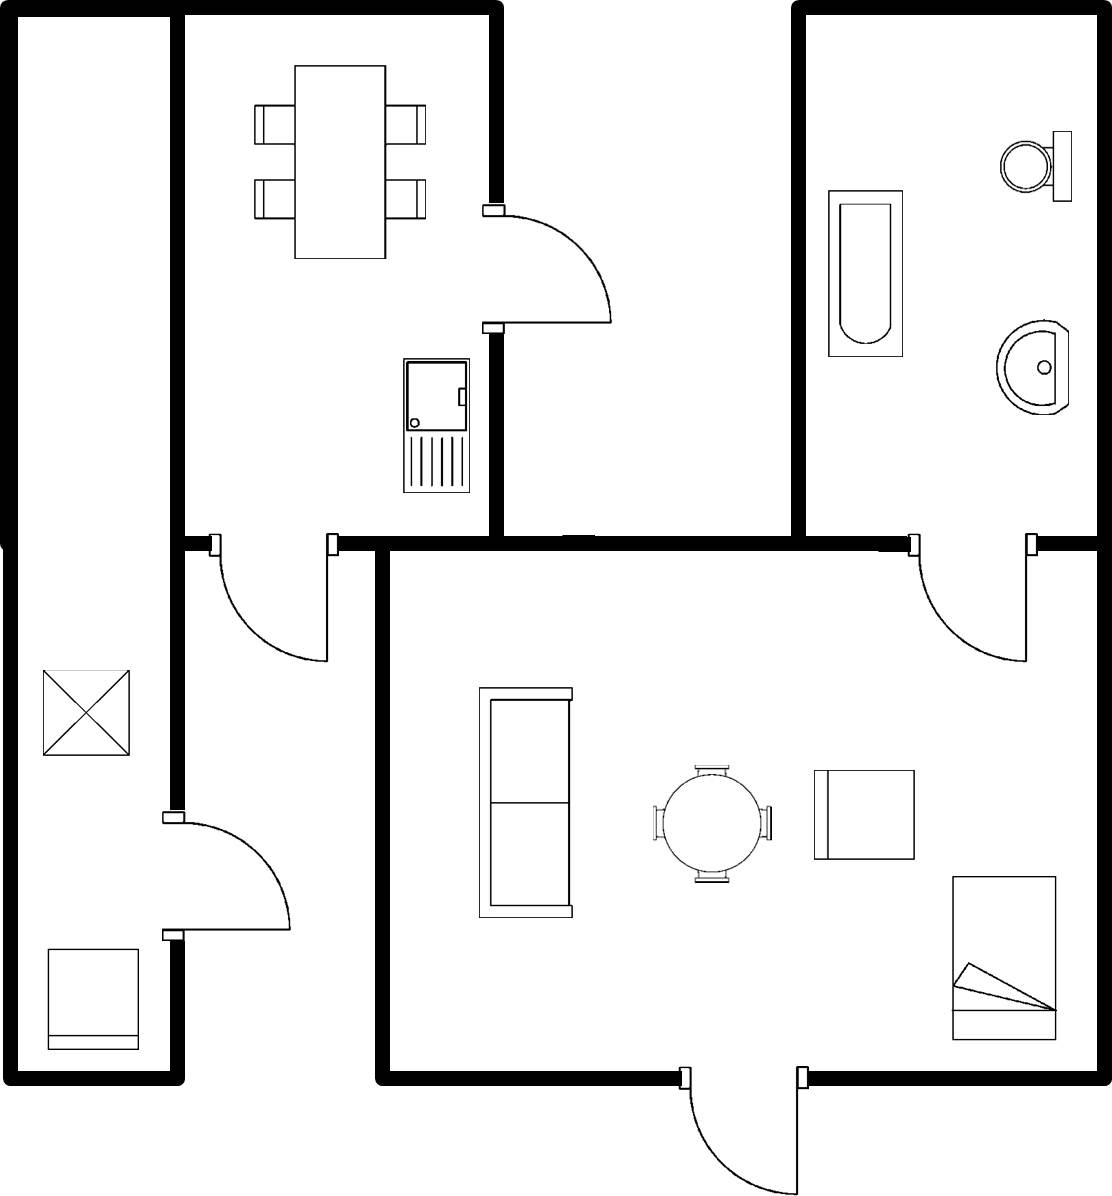bed: (942, 869, 1067, 1055)
coffee_table: (35, 662, 139, 765)
dining_table: (244, 56, 434, 269)
large_sink: (990, 121, 1081, 212)
large_sofa: (469, 679, 583, 929)
round_table: (643, 756, 783, 895)
sink: (393, 349, 477, 502)
small_sink: (990, 310, 1076, 427)
small_sofa: (37, 941, 150, 1058), (803, 762, 924, 872)
tub: (819, 178, 911, 367)
